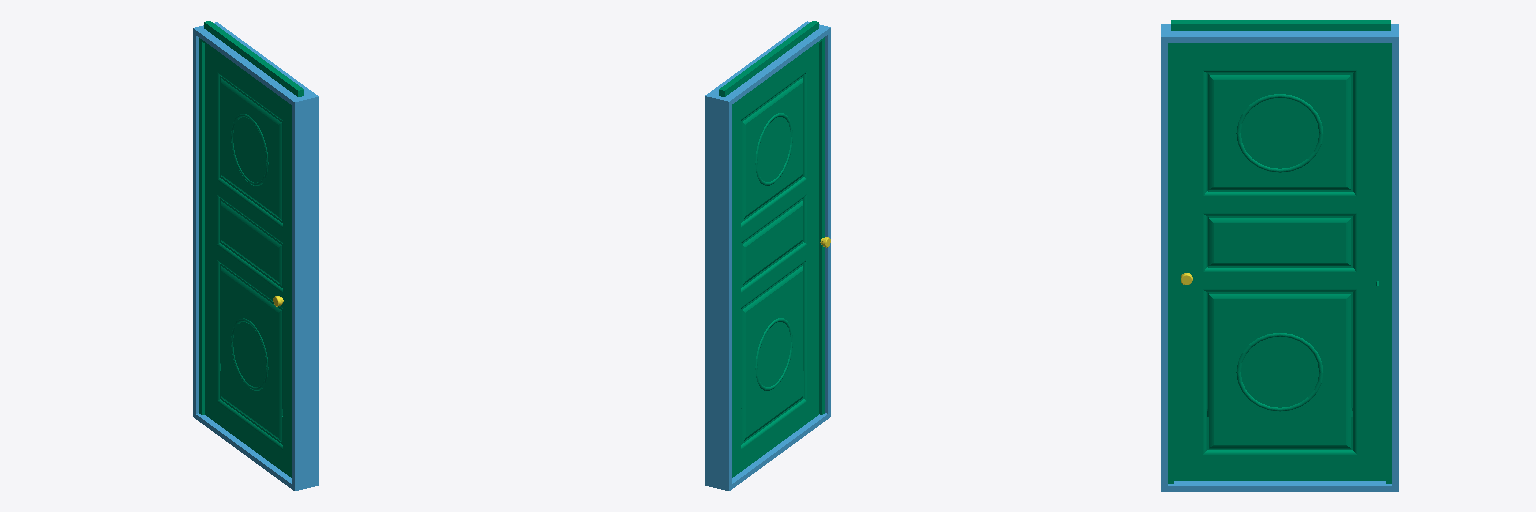
The robot description file, URDF, robot "partnet_1cd18c195955ea78598a453fd9fbd988":
<?xml version="1.0" ?>
<robot name="partnet_1cd18c195955ea78598a453fd9fbd988">
	<link name="base"/>
	<link name="link_0">
		<visual name="outside_frame-1">
			<origin xyz="0 0 0"/>
			<geometry>
				<mesh filename="textured_objs/original-3.obj"/>
			</geometry>
		</visual>
		<visual name="outside_frame-1">
			<origin xyz="0 0 0"/>
			<geometry>
				<mesh filename="textured_objs/original-4.obj"/>
			</geometry>
		</visual>
		<collision>
			<origin xyz="0 0 0"/>
			<geometry>
				<mesh filename="textured_objs/original-3.obj"/>
			</geometry>
		</collision>
		<collision>
			<origin xyz="0 0 0"/>
			<geometry>
				<mesh filename="textured_objs/original-4.obj"/>
			</geometry>
		</collision>
	</link>
	<joint name="joint_0" type="fixed">
		<origin rpy="1.570796326794897 0 -1.570796326794897" xyz="0 0 0"/>
		<child link="link_0"/>
		<parent link="base"/>
	</joint>
	<link name="link_1">
		<visual name="surface_board-16">
			<origin xyz="0.4066634119514137 -0.8931909999999998 -0.003700144325522514"/>
			<geometry>
				<mesh filename="textured_objs/original-7.obj"/>
			</geometry>
		</visual>
		<visual name="surface_board-16">
			<origin xyz="0.4066634119514137 -0.8931909999999998 -0.003700144325522514"/>
			<geometry>
				<mesh filename="textured_objs/new-3.obj"/>
			</geometry>
		</visual>
		<visual name="surface_board-16">
			<origin xyz="0.4066634119514137 -0.8931909999999998 -0.003700144325522514"/>
			<geometry>
				<mesh filename="textured_objs/new-0.obj"/>
			</geometry>
		</visual>
		<visual name="surface_board-16">
			<origin xyz="0.4066634119514137 -0.8931909999999998 -0.003700144325522514"/>
			<geometry>
				<mesh filename="textured_objs/new-4.obj"/>
			</geometry>
		</visual>
		<visual name="surface_board-16">
			<origin xyz="0.4066634119514137 -0.8931909999999998 -0.003700144325522514"/>
			<geometry>
				<mesh filename="textured_objs/original-11.obj"/>
			</geometry>
		</visual>
		<visual name="surface_board-16">
			<origin xyz="0.4066634119514137 -0.8931909999999998 -0.003700144325522514"/>
			<geometry>
				<mesh filename="textured_objs/original-14.obj"/>
			</geometry>
		</visual>
		<visual name="surface_board-16">
			<origin xyz="0.4066634119514137 -0.8931909999999998 -0.003700144325522514"/>
			<geometry>
				<mesh filename="textured_objs/original-8.obj"/>
			</geometry>
		</visual>
		<visual name="surface_board-16">
			<origin xyz="0.4066634119514137 -0.8931909999999998 -0.003700144325522514"/>
			<geometry>
				<mesh filename="textured_objs/original-13.obj"/>
			</geometry>
		</visual>
		<visual name="surface_board-16">
			<origin xyz="0.4066634119514137 -0.8931909999999998 -0.003700144325522514"/>
			<geometry>
				<mesh filename="textured_objs/original-17.obj"/>
			</geometry>
		</visual>
		<visual name="surface_board-16">
			<origin xyz="0.4066634119514137 -0.8931909999999998 -0.003700144325522514"/>
			<geometry>
				<mesh filename="textured_objs/new-1.obj"/>
			</geometry>
		</visual>
		<visual name="surface_board-16">
			<origin xyz="0.4066634119514137 -0.8931909999999998 -0.003700144325522514"/>
			<geometry>
				<mesh filename="textured_objs/original-9.obj"/>
			</geometry>
		</visual>
		<visual name="surface_board-16">
			<origin xyz="0.4066634119514137 -0.8931909999999998 -0.003700144325522514"/>
			<geometry>
				<mesh filename="textured_objs/new-2.obj"/>
			</geometry>
		</visual>
		<visual name="surface_board-16">
			<origin xyz="0.4066634119514137 -0.8931909999999998 -0.003700144325522514"/>
			<geometry>
				<mesh filename="textured_objs/original-10.obj"/>
			</geometry>
		</visual>
		<visual name="surface_board-16">
			<origin xyz="0.4066634119514137 -0.8931909999999998 -0.003700144325522514"/>
			<geometry>
				<mesh filename="textured_objs/original-16.obj"/>
			</geometry>
		</visual>
		<visual name="surface_board-16">
			<origin xyz="0.4066634119514137 -0.8931909999999998 -0.003700144325522514"/>
			<geometry>
				<mesh filename="textured_objs/original-15.obj"/>
			</geometry>
		</visual>
		<visual name="surface_board-16">
			<origin xyz="0.4066634119514137 -0.8931909999999998 -0.003700144325522514"/>
			<geometry>
				<mesh filename="textured_objs/original-12.obj"/>
			</geometry>
		</visual>
		<collision>
			<origin xyz="0.4066634119514137 -0.8931909999999998 -0.003700144325522514"/>
			<geometry>
				<mesh filename="textured_objs/original-7.obj"/>
			</geometry>
		</collision>
		<collision>
			<origin xyz="0.4066634119514137 -0.8931909999999998 -0.003700144325522514"/>
			<geometry>
				<mesh filename="textured_objs/new-3.obj"/>
			</geometry>
		</collision>
		<collision>
			<origin xyz="0.4066634119514137 -0.8931909999999998 -0.003700144325522514"/>
			<geometry>
				<mesh filename="textured_objs/new-0.obj"/>
			</geometry>
		</collision>
		<collision>
			<origin xyz="0.4066634119514137 -0.8931909999999998 -0.003700144325522514"/>
			<geometry>
				<mesh filename="textured_objs/new-4.obj"/>
			</geometry>
		</collision>
		<collision>
			<origin xyz="0.4066634119514137 -0.8931909999999998 -0.003700144325522514"/>
			<geometry>
				<mesh filename="textured_objs/original-11.obj"/>
			</geometry>
		</collision>
		<collision>
			<origin xyz="0.4066634119514137 -0.8931909999999998 -0.003700144325522514"/>
			<geometry>
				<mesh filename="textured_objs/original-14.obj"/>
			</geometry>
		</collision>
		<collision>
			<origin xyz="0.4066634119514137 -0.8931909999999998 -0.003700144325522514"/>
			<geometry>
				<mesh filename="textured_objs/original-8.obj"/>
			</geometry>
		</collision>
		<collision>
			<origin xyz="0.4066634119514137 -0.8931909999999998 -0.003700144325522514"/>
			<geometry>
				<mesh filename="textured_objs/original-13.obj"/>
			</geometry>
		</collision>
		<collision>
			<origin xyz="0.4066634119514137 -0.8931909999999998 -0.003700144325522514"/>
			<geometry>
				<mesh filename="textured_objs/original-17.obj"/>
			</geometry>
		</collision>
		<collision>
			<origin xyz="0.4066634119514137 -0.8931909999999998 -0.003700144325522514"/>
			<geometry>
				<mesh filename="textured_objs/new-1.obj"/>
			</geometry>
		</collision>
		<collision>
			<origin xyz="0.4066634119514137 -0.8931909999999998 -0.003700144325522514"/>
			<geometry>
				<mesh filename="textured_objs/original-9.obj"/>
			</geometry>
		</collision>
		<collision>
			<origin xyz="0.4066634119514137 -0.8931909999999998 -0.003700144325522514"/>
			<geometry>
				<mesh filename="textured_objs/new-2.obj"/>
			</geometry>
		</collision>
		<collision>
			<origin xyz="0.4066634119514137 -0.8931909999999998 -0.003700144325522514"/>
			<geometry>
				<mesh filename="textured_objs/original-10.obj"/>
			</geometry>
		</collision>
		<collision>
			<origin xyz="0.4066634119514137 -0.8931909999999998 -0.003700144325522514"/>
			<geometry>
				<mesh filename="textured_objs/original-16.obj"/>
			</geometry>
		</collision>
		<collision>
			<origin xyz="0.4066634119514137 -0.8931909999999998 -0.003700144325522514"/>
			<geometry>
				<mesh filename="textured_objs/original-15.obj"/>
			</geometry>
		</collision>
		<collision>
			<origin xyz="0.4066634119514137 -0.8931909999999998 -0.003700144325522514"/>
			<geometry>
				<mesh filename="textured_objs/original-12.obj"/>
			</geometry>
		</collision>
	</link>
	<joint name="joint_1" type="revolute">
		<origin xyz="-0.4066634119514137 0.8931909999999998 0.003700144325522514"/>
		<axis xyz="0 -1 0"/>
		<child link="link_1"/>
		<parent link="link_0"/>
		<limit lower="0.0" upper="1.5707963267948966"/>
	</joint>
	<link name="link_2">
		<visual name="fixed_part-5">
			<origin xyz="-0.3412588668976835 0.06464413310231656 0"/>
			<geometry>
				<mesh filename="textured_objs/original-23.obj"/>
			</geometry>
		</visual>
		<visual name="fixed_part-5">
			<origin xyz="-0.3412588668976835 0.06464413310231656 0"/>
			<geometry>
				<mesh filename="textured_objs/original-22.obj"/>
			</geometry>
		</visual>
		<visual name="fixed_part-6">
			<origin xyz="-0.3412588668976835 0.06464413310231656 0"/>
			<geometry>
				<mesh filename="textured_objs/original-19.obj"/>
			</geometry>
		</visual>
		<visual name="fixed_part-6">
			<origin xyz="-0.3412588668976835 0.06464413310231656 0"/>
			<geometry>
				<mesh filename="textured_objs/original-20.obj"/>
			</geometry>
		</visual>
		<collision>
			<origin xyz="-0.3412588668976835 0.06464413310231656 0"/>
			<geometry>
				<mesh filename="textured_objs/original-23.obj"/>
			</geometry>
		</collision>
		<collision>
			<origin xyz="-0.3412588668976835 0.06464413310231656 0"/>
			<geometry>
				<mesh filename="textured_objs/original-22.obj"/>
			</geometry>
		</collision>
		<collision>
			<origin xyz="-0.3412588668976835 0.06464413310231656 0"/>
			<geometry>
				<mesh filename="textured_objs/original-19.obj"/>
			</geometry>
		</collision>
		<collision>
			<origin xyz="-0.3412588668976835 0.06464413310231656 0"/>
			<geometry>
				<mesh filename="textured_objs/original-20.obj"/>
			</geometry>
		</collision>
	</link>
	<joint name="joint_2" type="continuous">
		<origin xyz="0.7479222788490971 -0.9578351331023164 -0.003700144325522514"/>
		<axis xyz="0 0 1"/>
		<child link="link_2"/>
		<parent link="link_1"/>
	</joint>
</robot>

--- Render facts (derived) ---
Views: 3 orthographic renders of the robot side by side, from view 1: azimuth 30°, elevation 25°; view 2: azimuth 150°, elevation 25°; view 3: azimuth 270°, elevation 25°.
Robot: partnet_1cd18c195955ea78598a453fd9fbd988 — 4 links, 3 joints (1 revolute, 1 continuous, 1 fixed); root link base; default pose: all joints at 0.
Visible links, largest first — view 1: link_1, link_0; view 2: link_1, link_0; view 3: link_1, link_0.
Link boxes in pixels (<box>): link_1: <box>199,21,303,477</box>; link_0: <box>193,22,318,490</box>; link_1: <box>719,21,824,477</box>; link_0: <box>705,21,830,490</box>; link_1: <box>1168,20,1391,483</box>; link_0: <box>1161,24,1398,491</box>.
Size in the robot's own frame: 0.1879 by 0.8607 by 1.85 metres.
Meshes: 22 distinct files referenced, 22 mesh visuals loaded (22 OBJ).